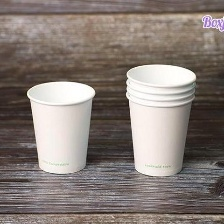paper_cup: (118, 59, 201, 180), (21, 76, 98, 178)
